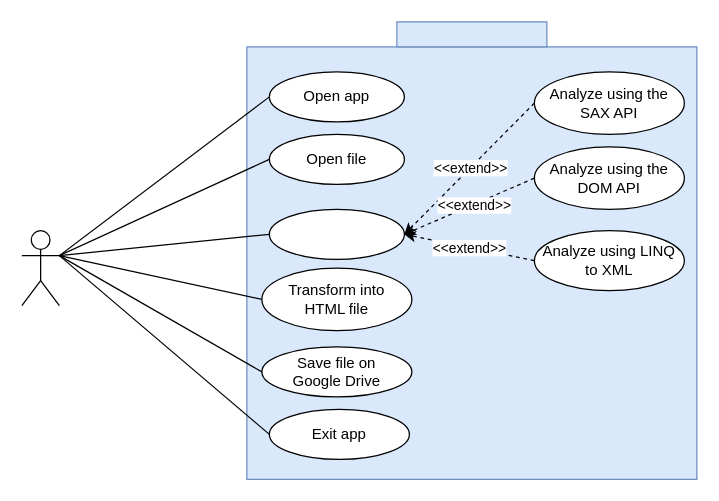
Image size: 719x501. Some labels were removed from this diagram. The centre of each missing label's shape, as x and y in pixels:
"Analyze file" belongs at (336,233).
"User" belongs at (40,267).
"XML_Analyzer" belongs at (471,34).
